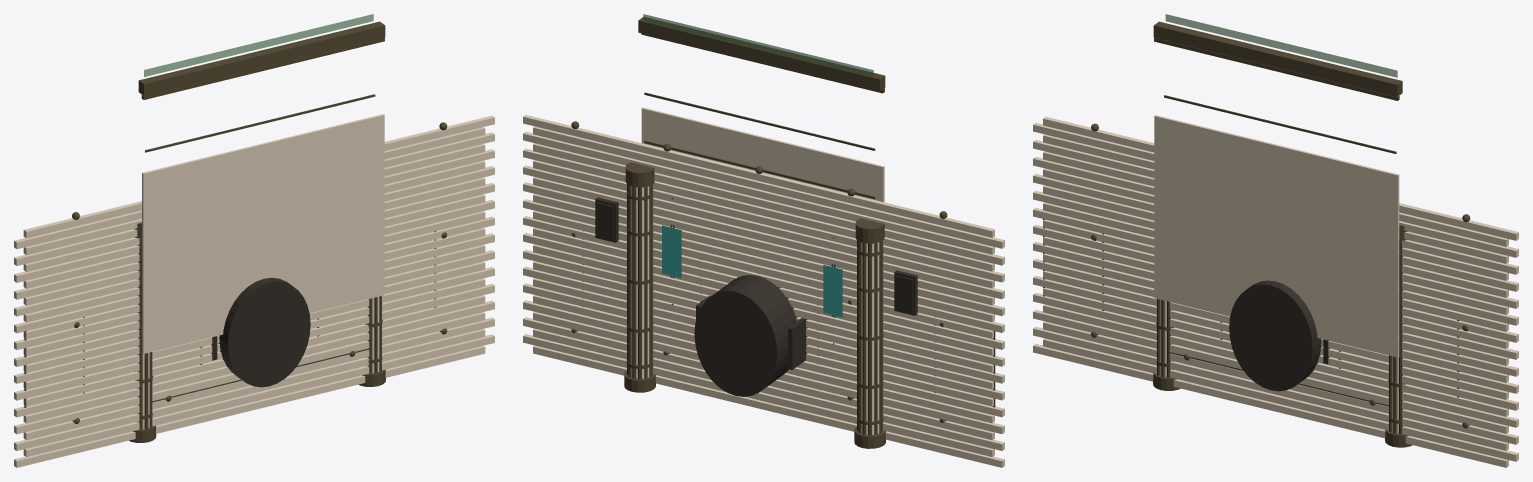
File: museum-exterior.glb
3 renders of one model, left to right at view 1: azimuth 30°, elevation 25°; view 2: azimuth 150°, elevation 25°; view 3: azimuth 330°, elevation 25°, orthographic.
Visible parts, largest first — view 1: Cube.030; view 2: Cube.030; view 3: Cube.030.
Boxes of the visible parts, x1,y1,x2,y2 form: Cube.030: (14,14,494,467); Cube.030: (523,14,1004,467); Cube.030: (1033,14,1518,467).
Size of the model in its own units: 20.83 by 15.35 by 2.5.
